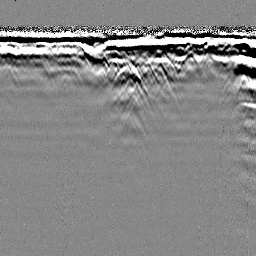cavity: (109, 62, 148, 93)
